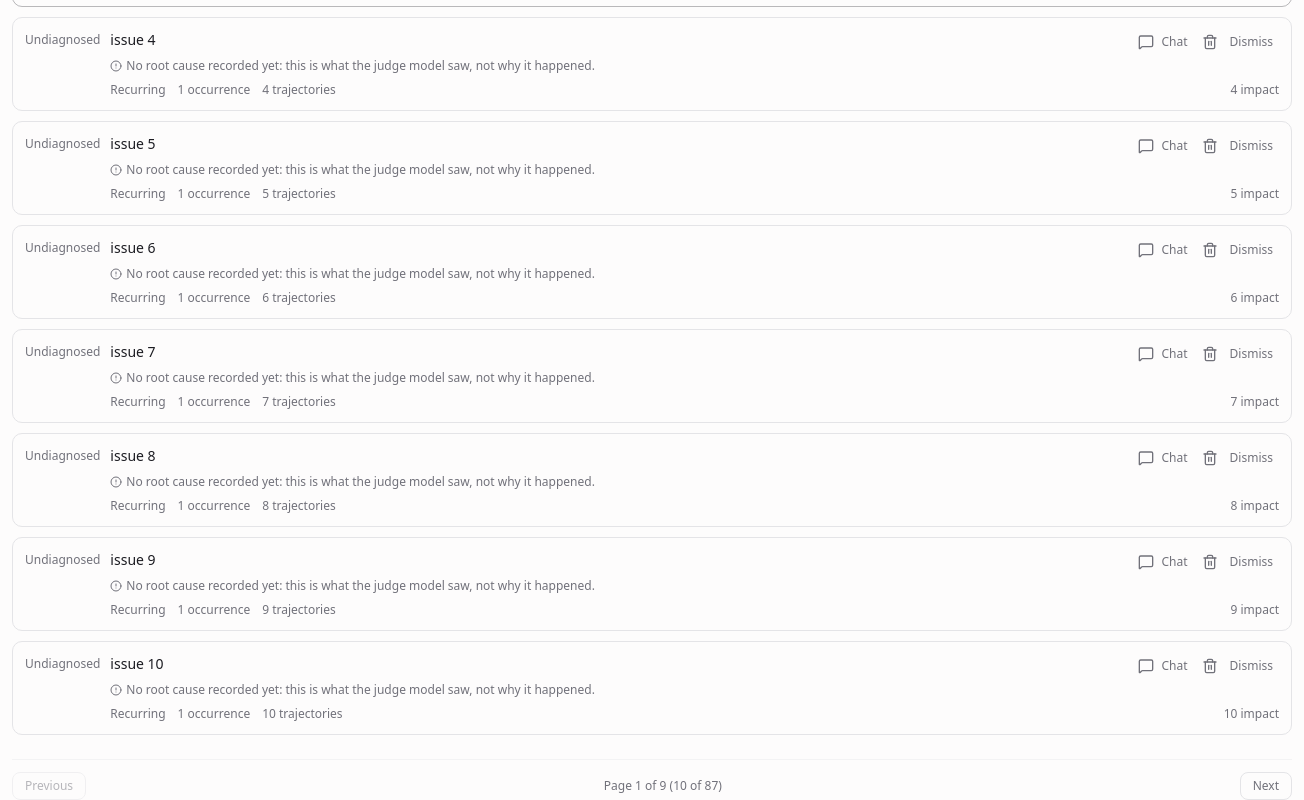
Test: the insights list's paging › fetches the next page instead of slicing the one it has
This screenshot has width=1304, height=800.
(page scrolled)
Click the button "Next": x=1266, y=786 x1=1240 y1=772 x2=1292 y2=799
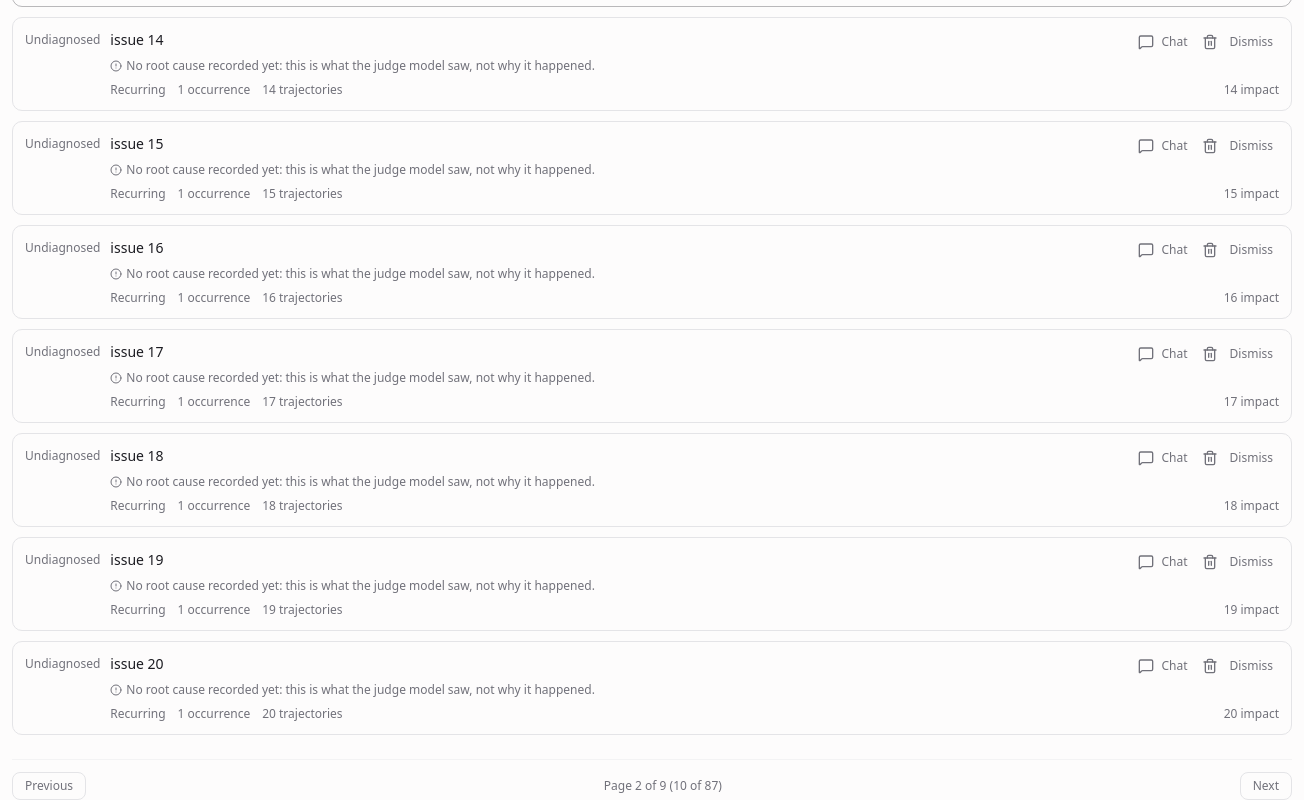
Result: the text "Page 2 of 9 (10 of 87)" is shown at x1=604 y1=778 x2=722 y2=794
